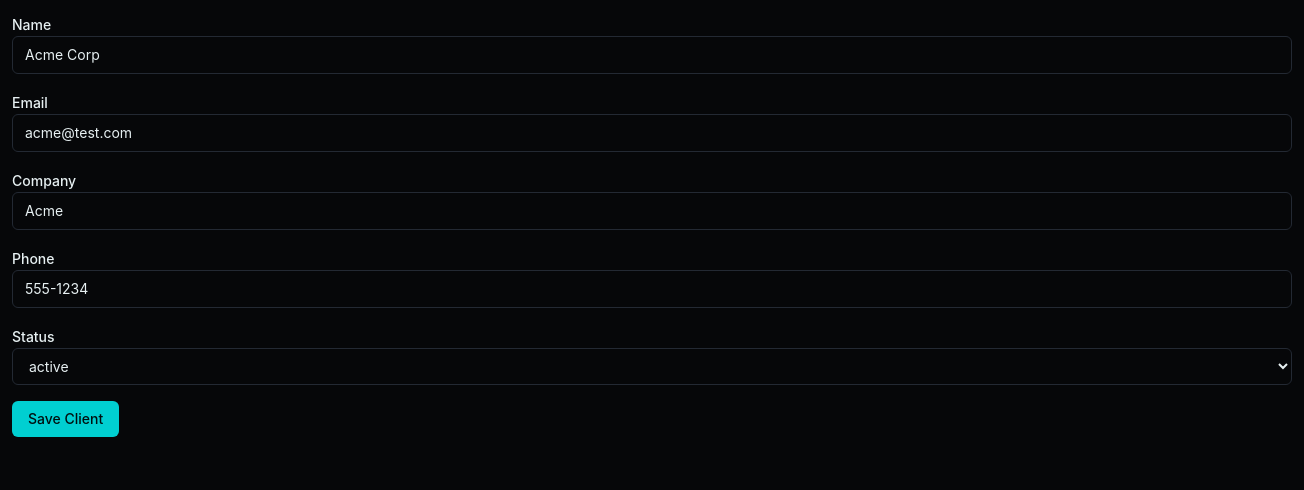
Scenario: EditClientPage › should display error message on failed update
This screenshot has width=1304, height=490.
Click the button "Save Client" at (66,419), box [12, 401, 119, 437]
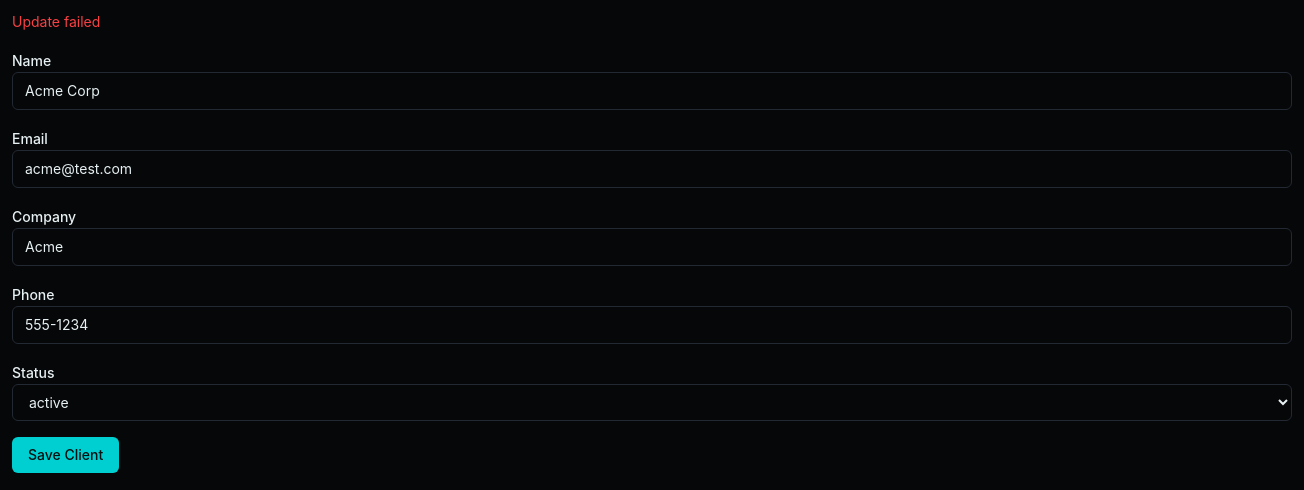
Result: the text "Update failed" is shown at [12, 13, 100, 30]
